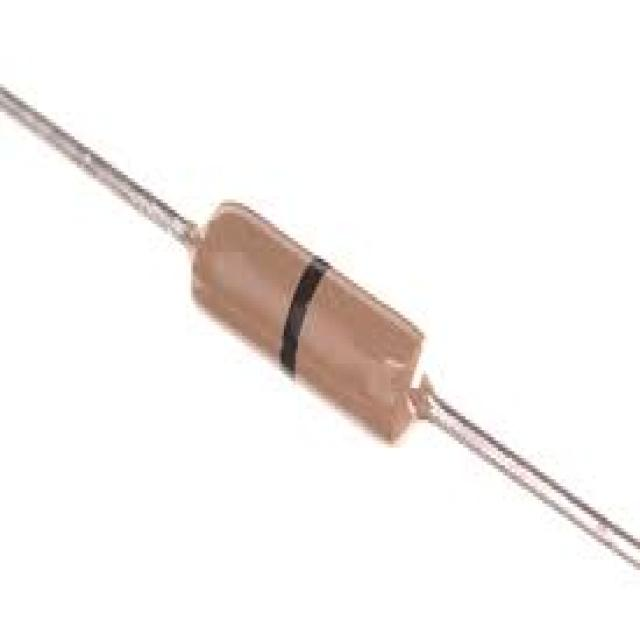Resistor: (188, 202, 424, 443)
